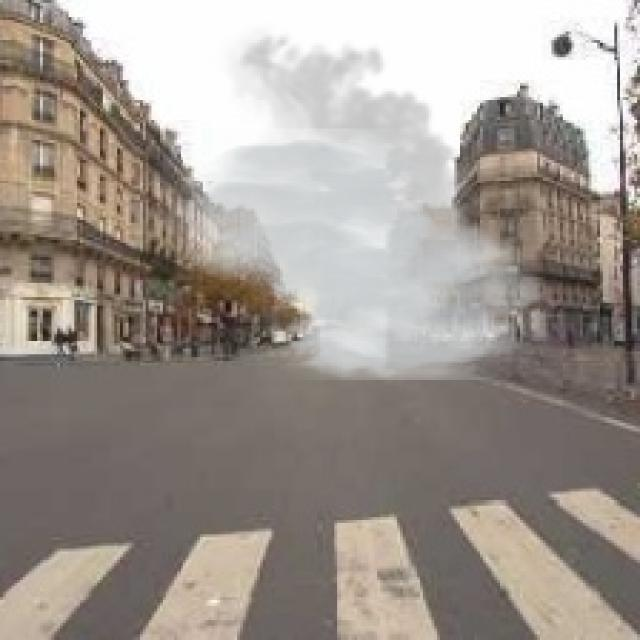Smoke: (152, 23, 554, 380)
